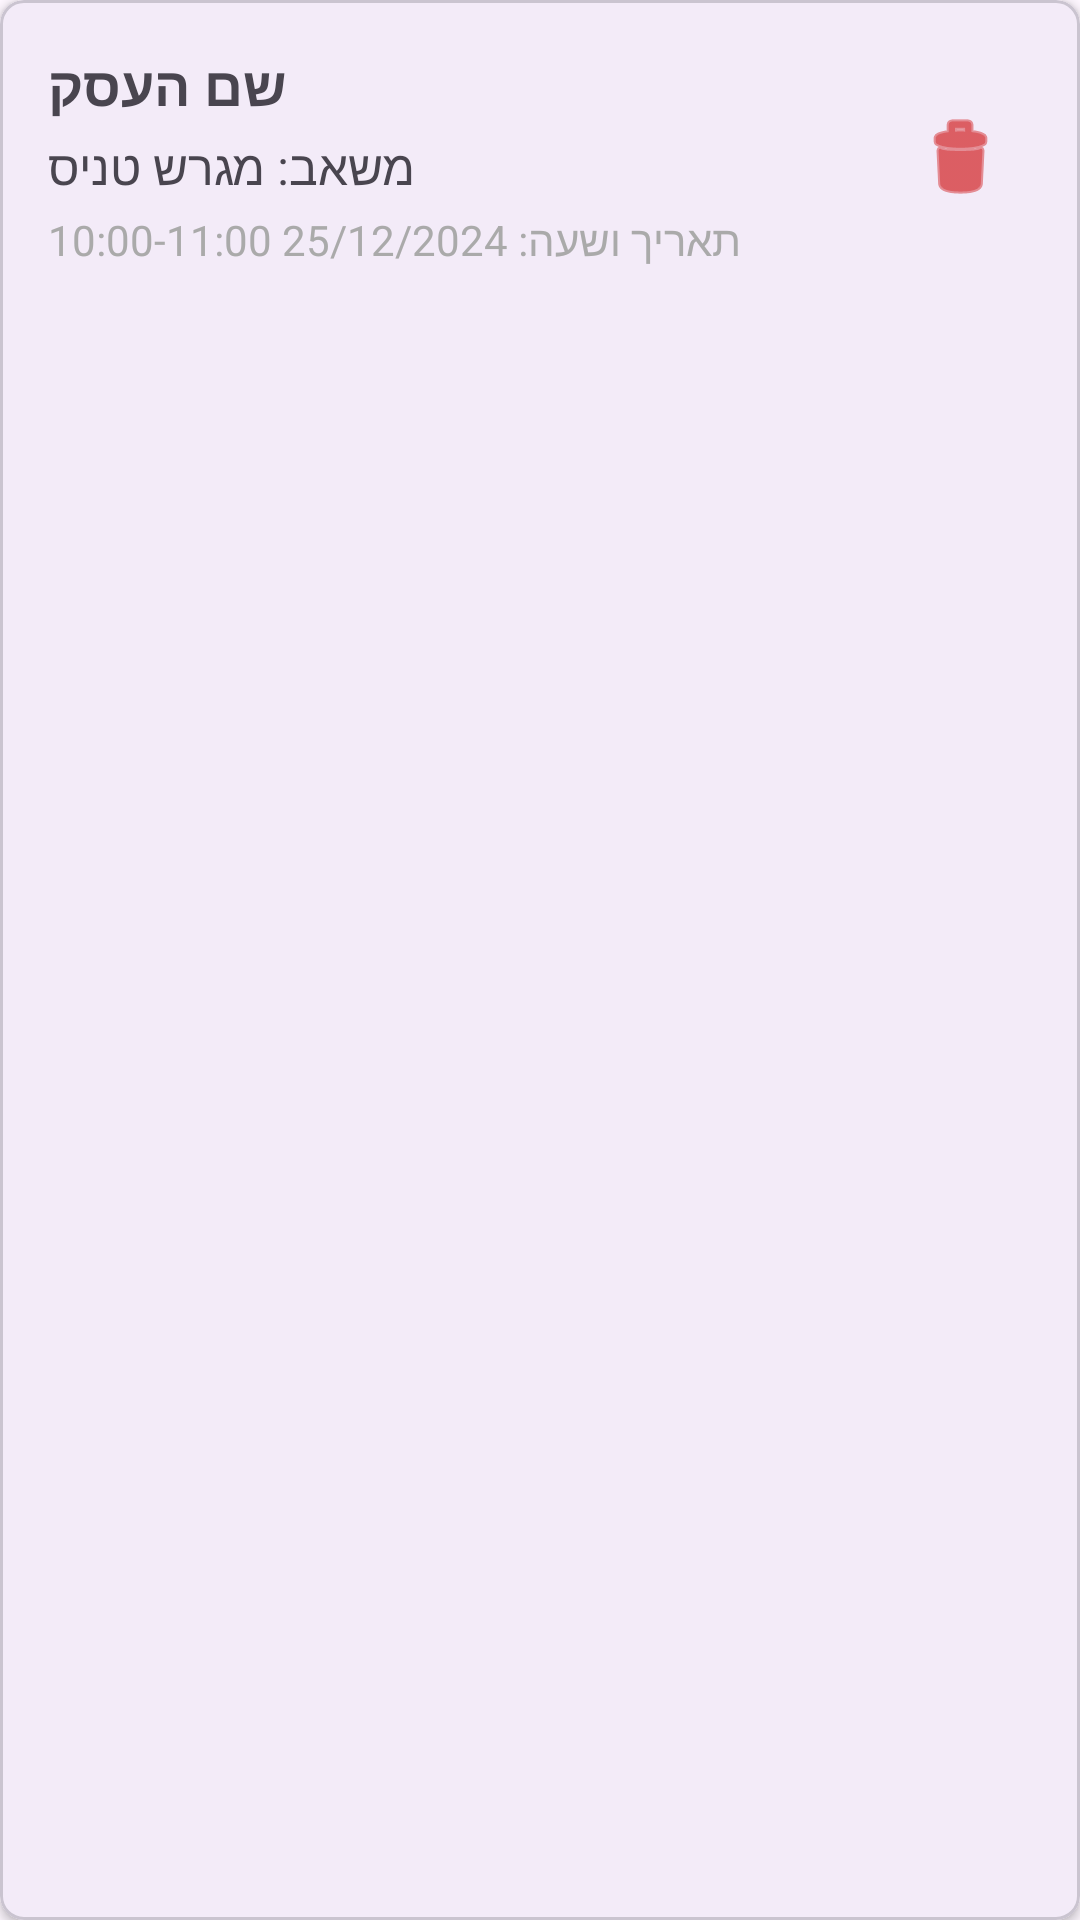

Screen size 1080×1920. Icon name, then its box in pixels as (x1, y1, x2, y2):
ביטול הזמנה: (933, 119, 988, 194)
